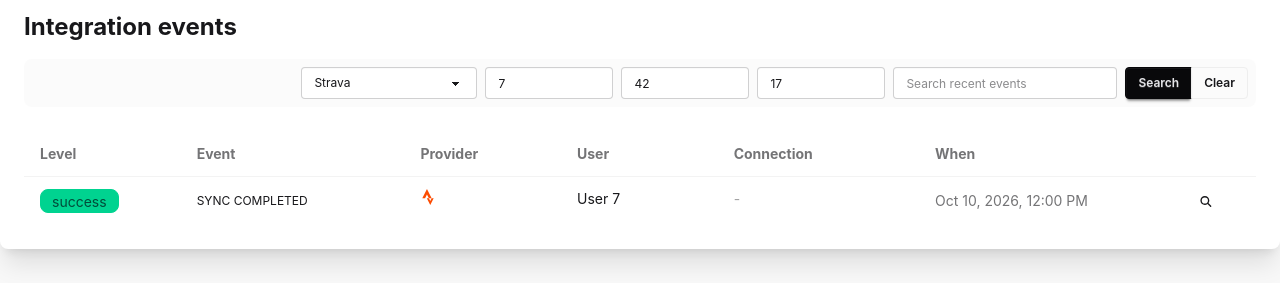
admin list grids › keeps integration filters in the event grid card and clears provider and IDs
In the search field named "Search recent integration events": (1005, 83) [893, 67, 1117, 99], type "missing"
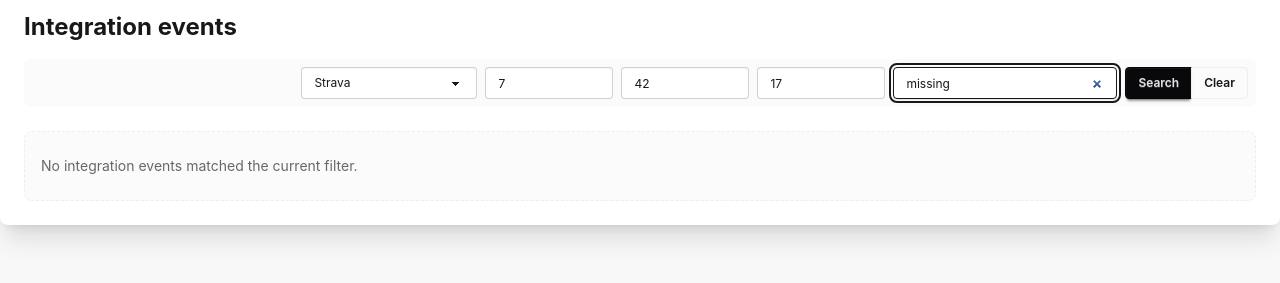
Check: the text "No integration events matched the current filter." is shown, box [24, 131, 1256, 201]
Click the button "Clear": click(1220, 83) [1191, 67, 1248, 99]
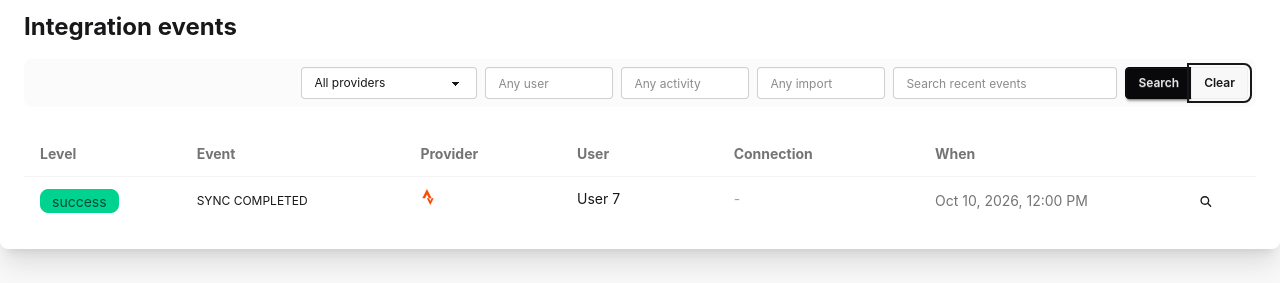
Check: the dropdown named "Provider" shows "All providers", box [301, 67, 477, 99]
Check: the number field named "User ID" is not empty, box [485, 67, 613, 99]
Check: the button named "Inspect event 1" is shown, box [1194, 189, 1218, 213]
